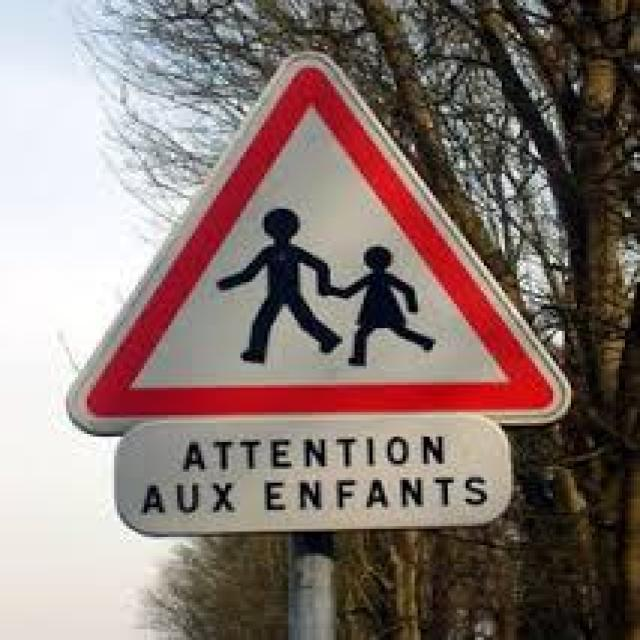AttentionEnfant: (59, 50, 570, 428)
